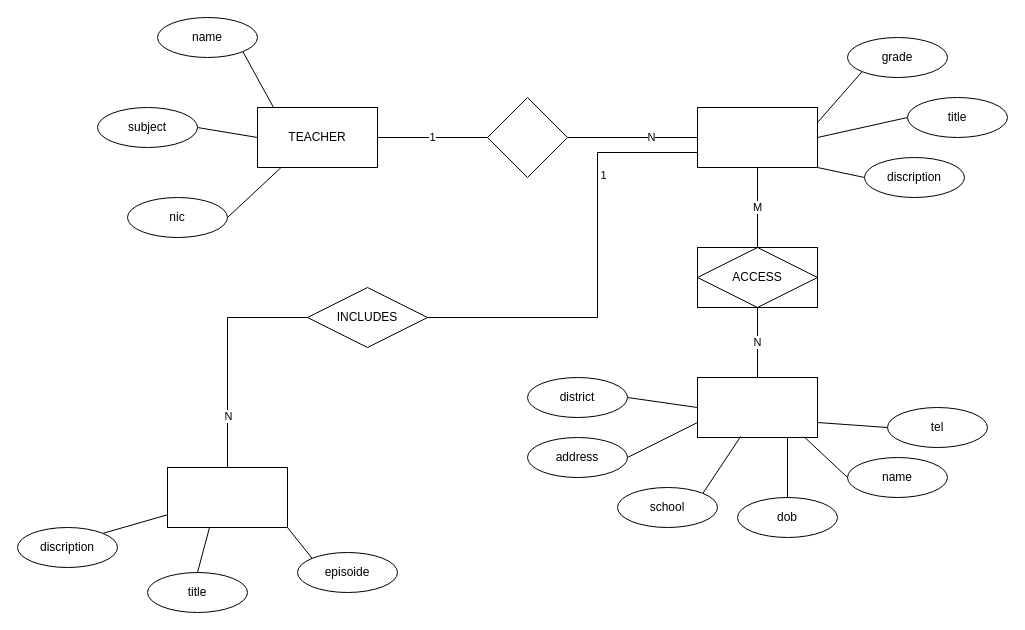
This 1025x630 diagram has some shape labels left out. The shapes that lost their labels are listed below. From the top down, each one's centre as x and y in pixels, then its label:
the point at 527,137: HAS
the point at 757,137: COURSE
the point at 757,407: STUDENT
the point at 227,497: VIDEO
